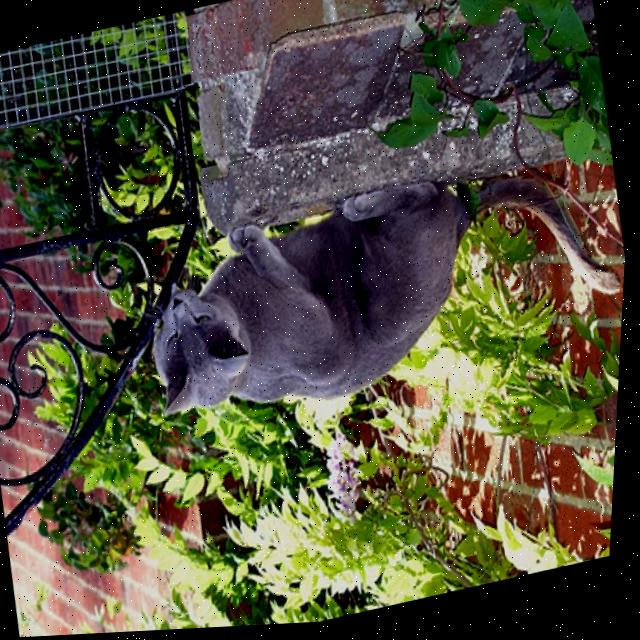Russian Blue: (122, 135, 633, 444)
